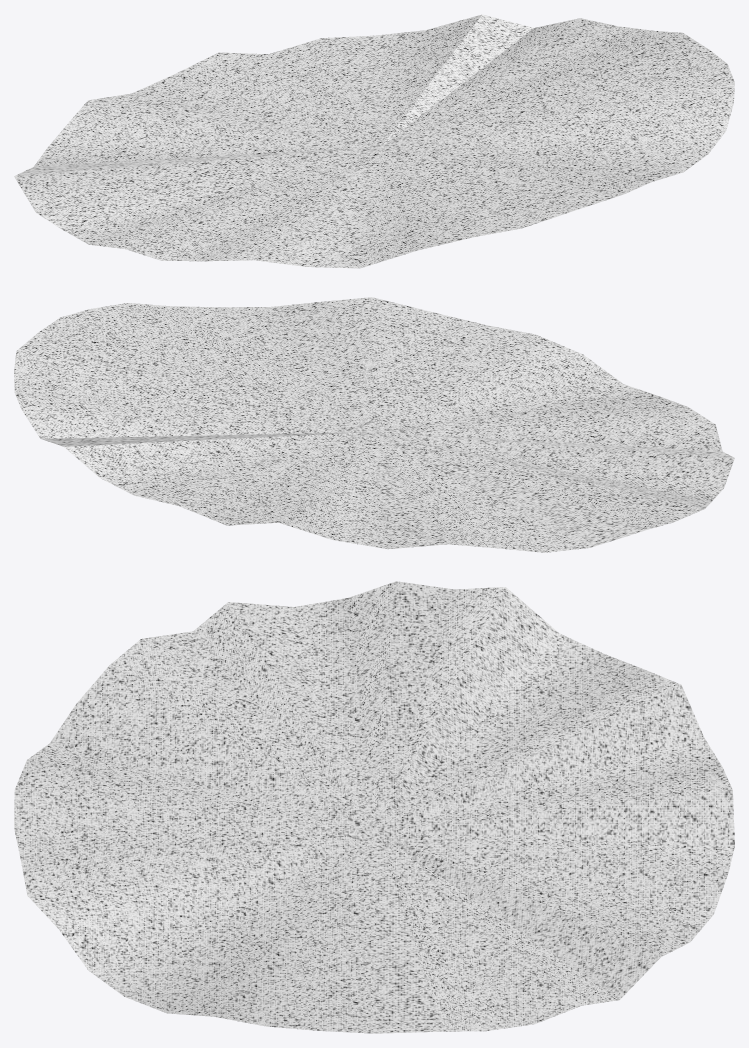
Rendered from Spoon_powders.fbx.
The picture shows the model from 3 angles, top to bottom: view 1: azimuth 30°, elevation 25°; view 2: azimuth 150°, elevation 25°; view 3: azimuth 270°, elevation 25°; orthographic projection. The views are drawn at different scales.
Visible parts, largest first — view 1: Salt_Spoon; view 2: Salt_Spoon; view 3: Salt_Spoon.
Boxes of the visible parts, bbox=[...] form: Salt_Spoon: bbox=[14, 14, 734, 268]; Salt_Spoon: bbox=[14, 297, 734, 552]; Salt_Spoon: bbox=[14, 581, 734, 1033].
Size of the model in its own units: 65.35 by 2.1 by 43.21.
Materials: 2 (2 with a texture image).
